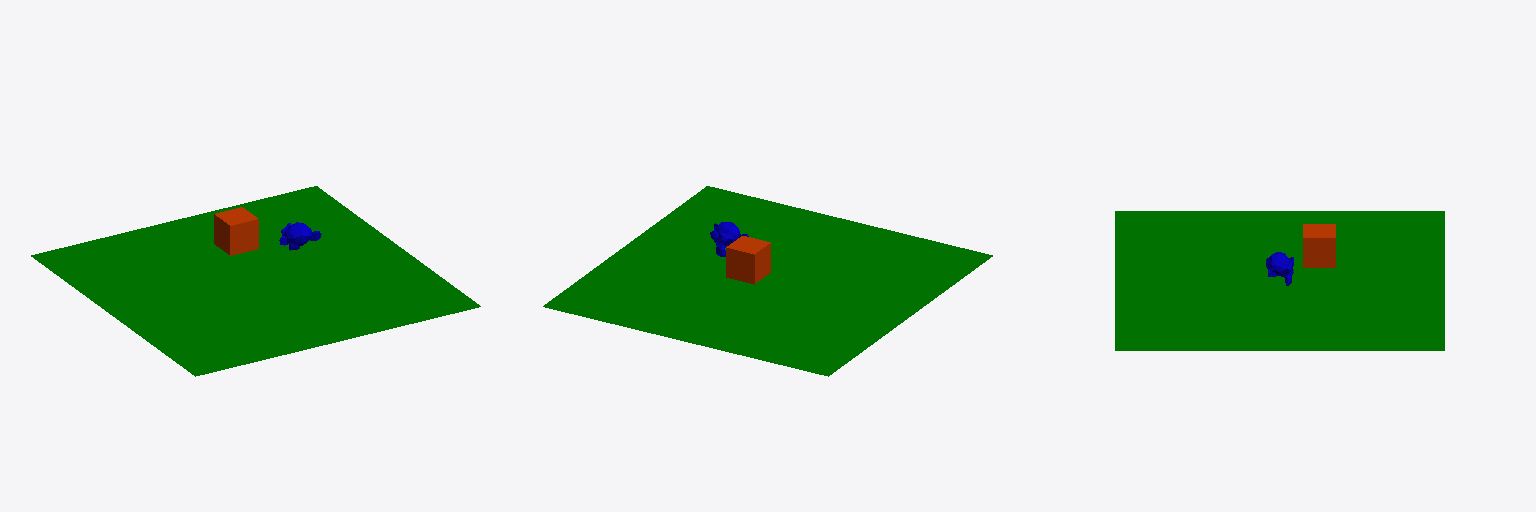
3 renders of one model, left to right at view 1: azimuth 30°, elevation 25°; view 2: azimuth 150°, elevation 25°; view 3: azimuth 270°, elevation 25°, orthographic.
Visible parts, largest first — view 1: 平面, Cube, 猴头; view 2: 平面, Cube, 猴头; view 3: 平面, Cube, 猴头.
Part boxes in pixels (left/top/right/bottom): 平面: left=31, top=186, right=480, bottom=376; Cube: left=214, top=207, right=258, bottom=255; 猴头: left=279, top=222, right=321, bottom=250; 平面: left=543, top=186, right=992, bottom=376; Cube: left=726, top=236, right=770, bottom=284; 猴头: left=710, top=222, right=748, bottom=256; 平面: left=1115, top=211, right=1444, bottom=350; Cube: left=1303, top=224, right=1335, bottom=267; 猴头: left=1266, top=252, right=1293, bottom=285.
Bounding box in the file's own units: 20 × 3.37 × 20.